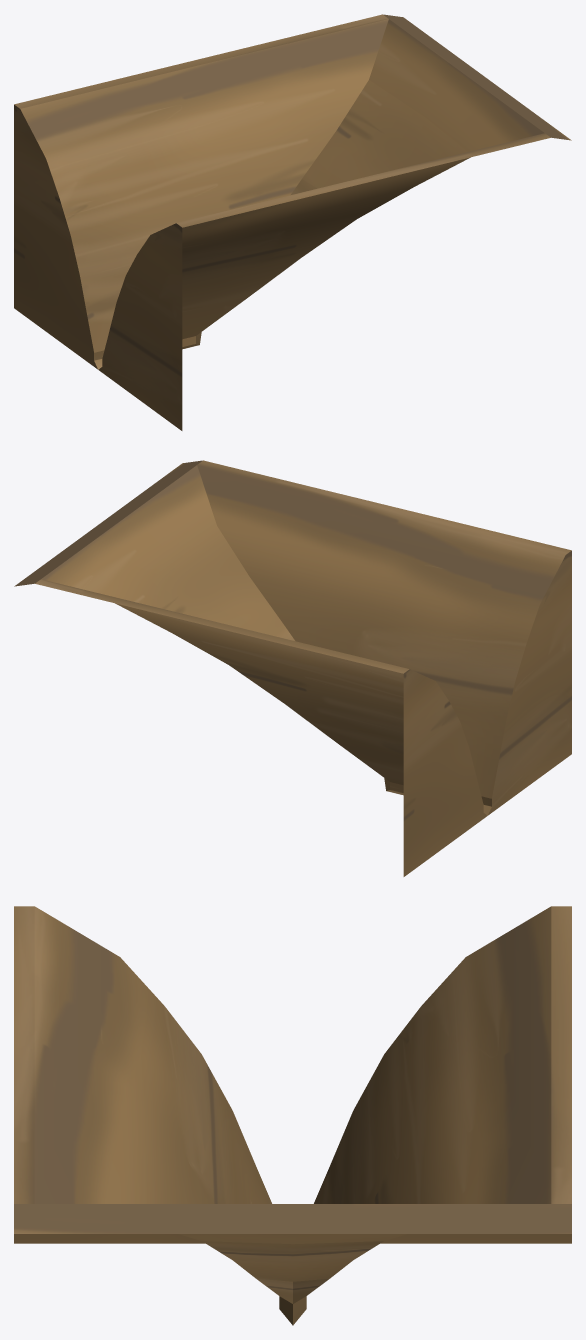
File: RoofArch1.fbx
The picture shows the model from 3 angles, top to bottom: view 1: azimuth 30°, elevation 25°; view 2: azimuth 150°, elevation 25°; view 3: azimuth 270°, elevation 25°; orthographic projection. The views are drawn at different scales.
Visible parts, largest first — view 1: cieling_Main_; view 2: cieling_Main_; view 3: cieling_Main_.
Part boxes in pixels (x1=…): cieling_Main_: x1=14, y1=14, x2=571, y2=430; cieling_Main_: x1=14, y1=460, x2=571, y2=876; cieling_Main_: x1=14, y1=906, x2=571, y2=1325.
Bounding box in the file's own units: 400 × 200 × 300.
